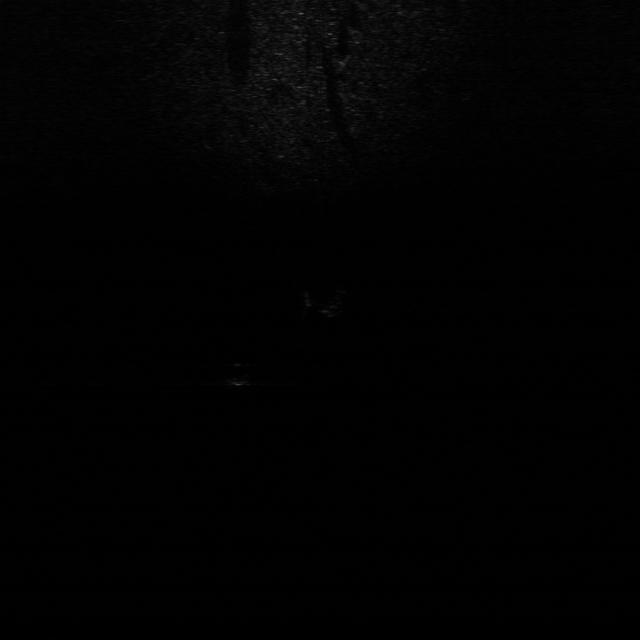ball: (217, 357, 256, 390)
human body: (304, 282, 354, 318)
